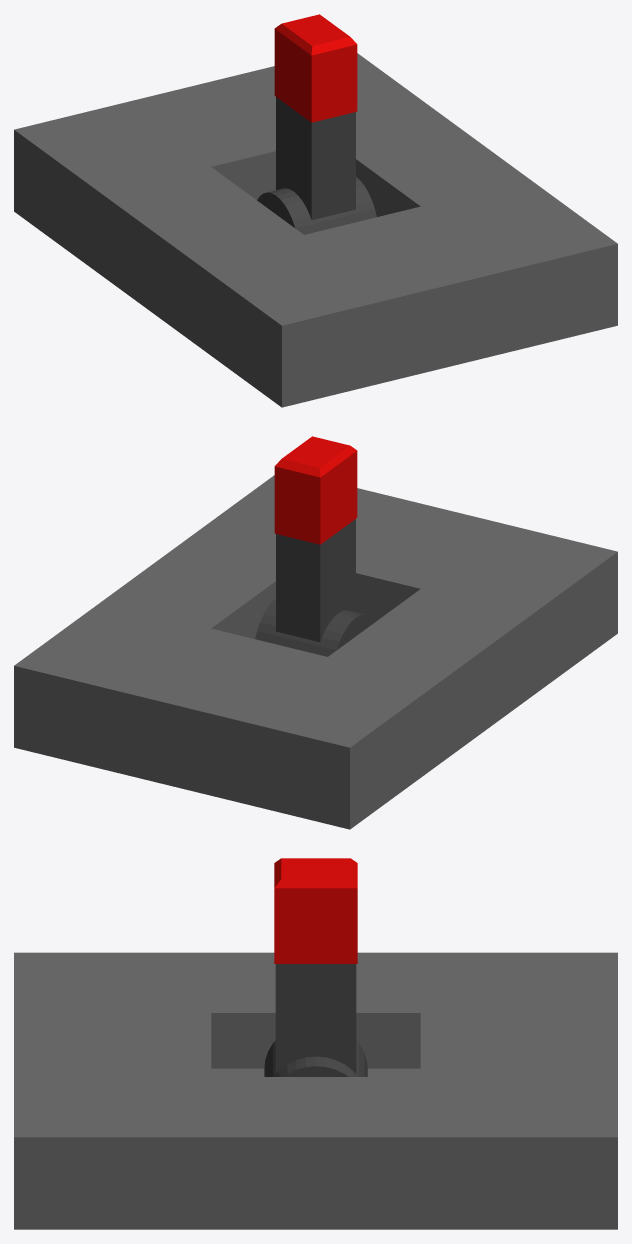
File: RedSwitch.glb
The picture shows the model from 3 angles, top to bottom: view 1: azimuth 30°, elevation 25°; view 2: azimuth 150°, elevation 25°; view 3: azimuth 270°, elevation 25°; orthographic projection. The views are drawn at different scales.
Parts seen in each view (by area): view 1: Base, Switch, Cube; view 2: Base, Switch, Cube; view 3: Base, Switch, Cube.
Part boxes in pixels (box(x1,y1,x2,y2)): Base: box(14, 53, 617, 407); Switch: box(257, 97, 376, 234); Cube: box(274, 14, 357, 122); Base: box(14, 475, 617, 829); Switch: box(255, 519, 374, 656); Cube: box(274, 436, 357, 544); Base: box(14, 952, 617, 1229); Switch: box(264, 964, 367, 1076); Cube: box(274, 858, 357, 963).
Size of the model in its own units: 0.0463 by 0.0315 by 0.0639.
